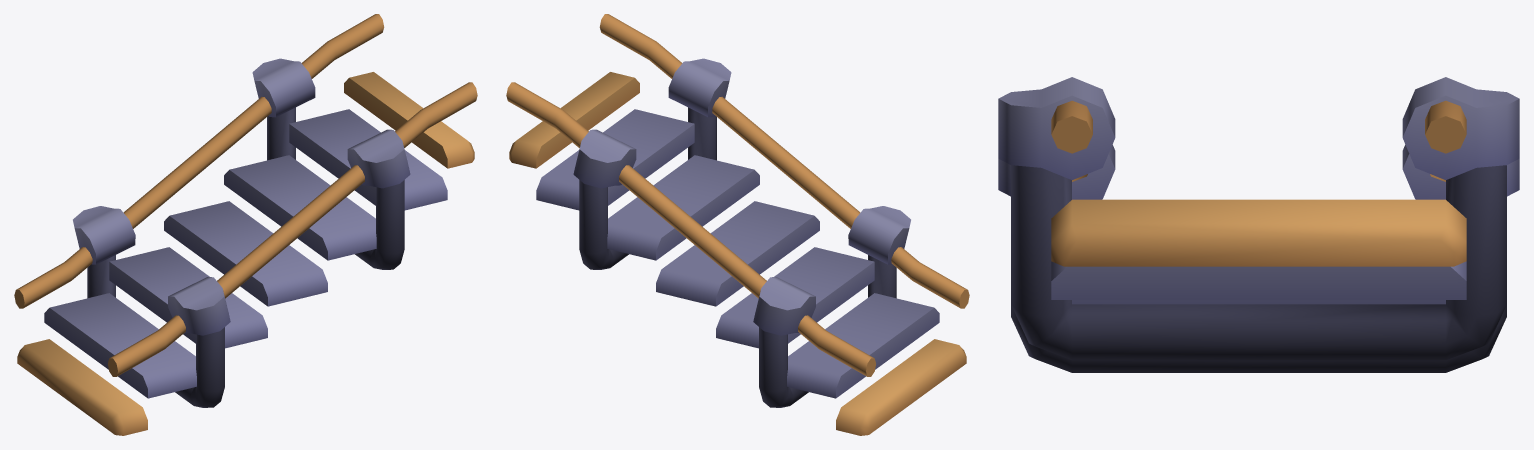
Rendered from catwalk-stairs.glb.
The picture shows the model from 3 angles, left to right: view 1: azimuth 30°, elevation 25°; view 2: azimuth 150°, elevation 25°; view 3: azimuth 270°, elevation 25°; orthographic projection. The views are drawn at different scales.
Visible parts, largest first — view 1: catwalk-stairs; view 2: catwalk-stairs; view 3: catwalk-stairs.
Part boxes in pixels (<box>): catwalk-stairs: <box>14,14,477,435</box>; catwalk-stairs: <box>506,14,969,435</box>; catwalk-stairs: <box>998,77,1519,372</box>.
Bounding box in the file's own units: 2 × 1.4 × 1.26.
